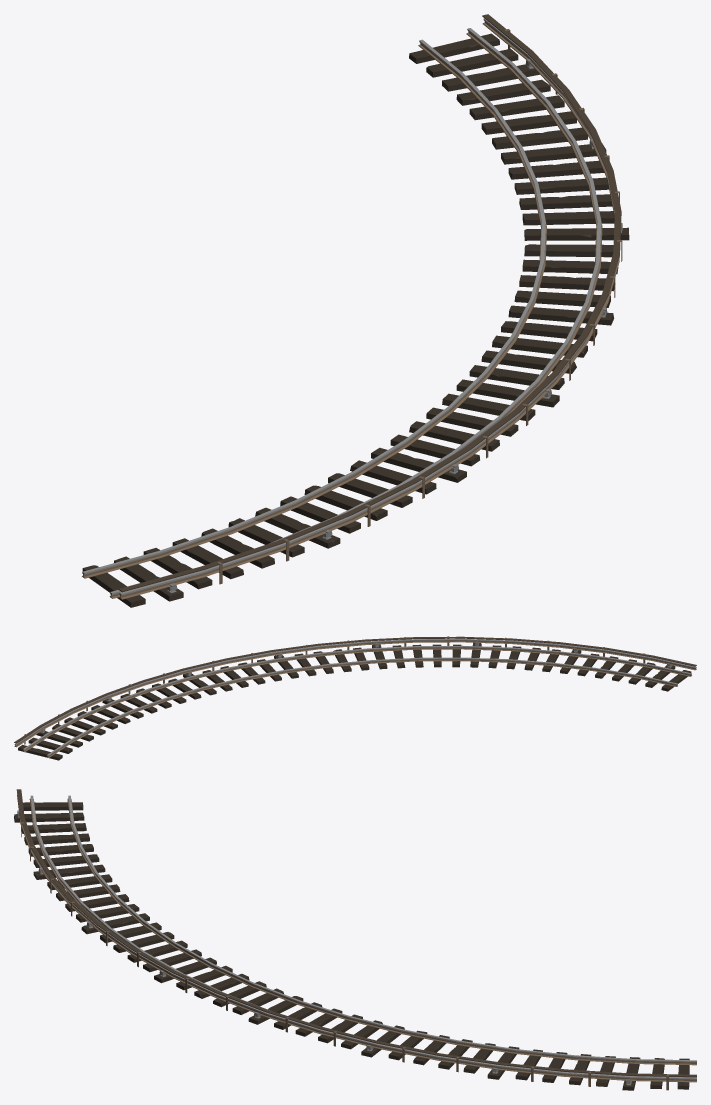
The model's file is SW_ENV_TrackBend_Inner_90_25m.fbx.
3 renders of one model, top to bottom at view 1: azimuth 30°, elevation 25°; view 2: azimuth 150°, elevation 25°; view 3: azimuth 270°, elevation 25°, orthographic. The views are drawn at different scales.
Parts seen in each view (by area): view 1: SW_ENV_TrackBend_Inner_90_25m; view 2: SW_ENV_TrackBend_Inner_90_25m; view 3: SW_ENV_TrackBend_Inner_90_25m.
Boxes of the visible parts, box(x1,y1,x2,y2) form: SW_ENV_TrackBend_Inner_90_25m: box(82, 14, 629, 607); SW_ENV_TrackBend_Inner_90_25m: box(14, 636, 696, 760); SW_ENV_TrackBend_Inner_90_25m: box(14, 789, 696, 1090).
Bounding box in the file's own units: 2636 × 58.74 × 2642.
